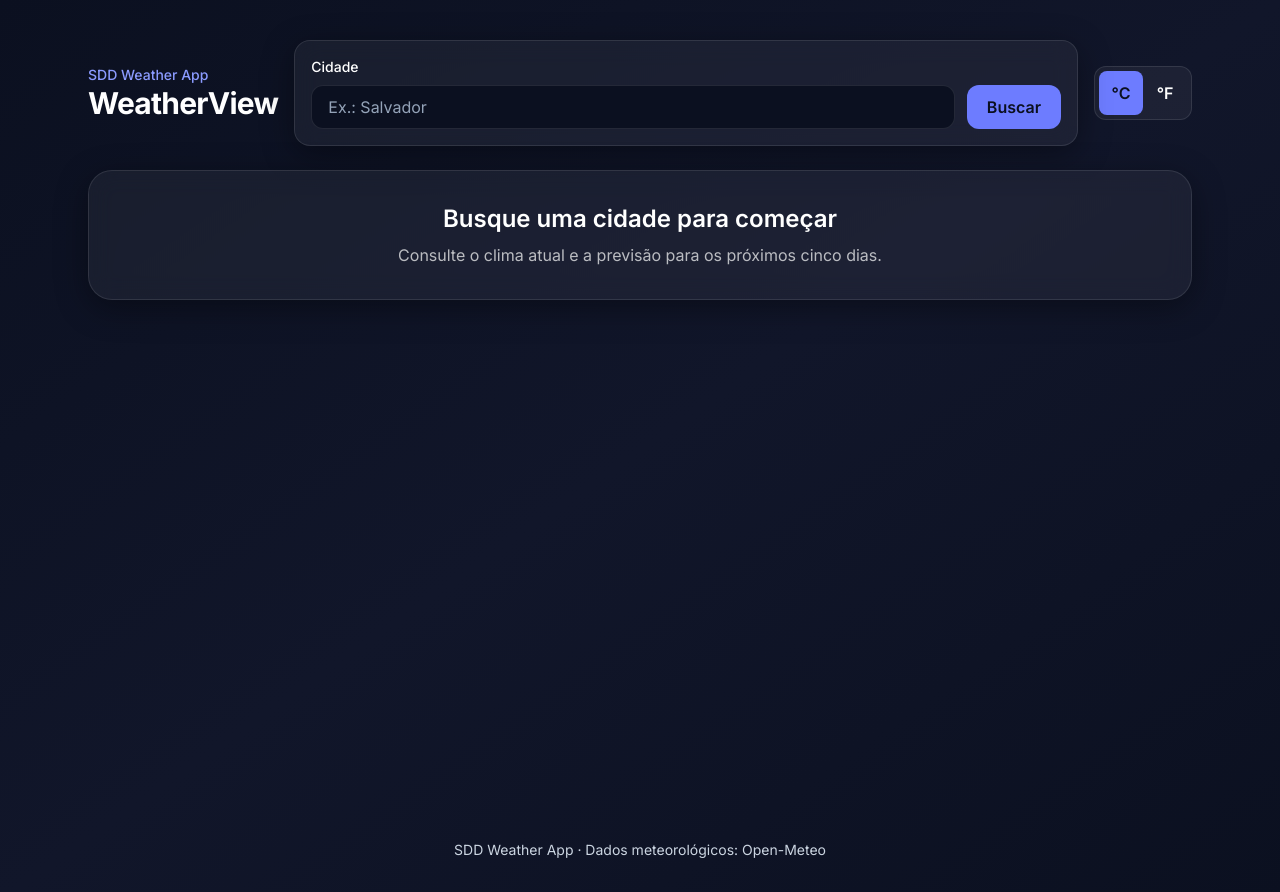
it: App › mostra loading nas duas consultas, desabilita busca e remove dados anteriores
The width and height of the screenshot is (1280, 892).
Type "Salvador" into the search field labelled "Cidade" at (633,107), box [311,85,955,129]
Then press Enter
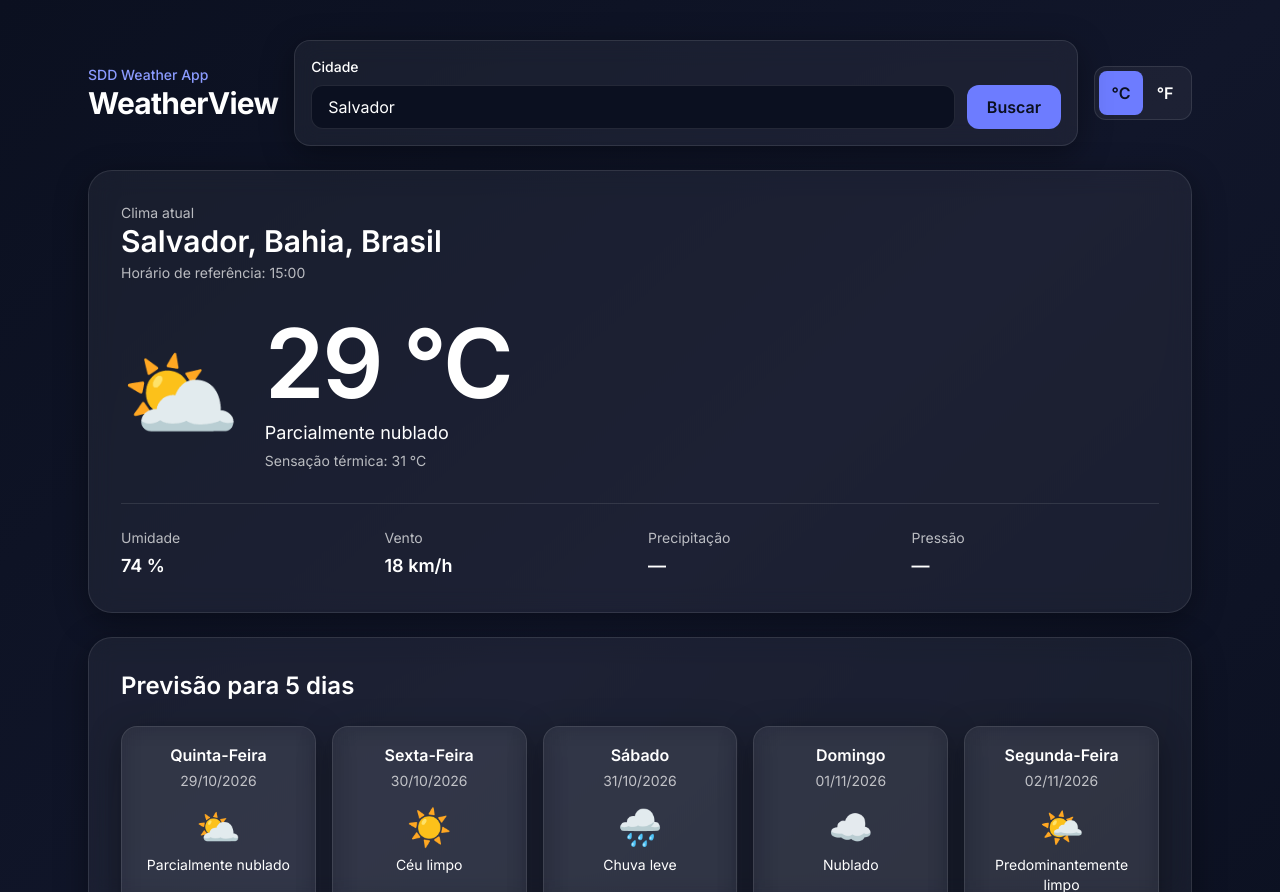
Now the element "Salvador, Bahia, Brasil" is shown, box [88,170,1192,613]
Click the button "Buscar" at (1014,107), box [967,85,1061,129]
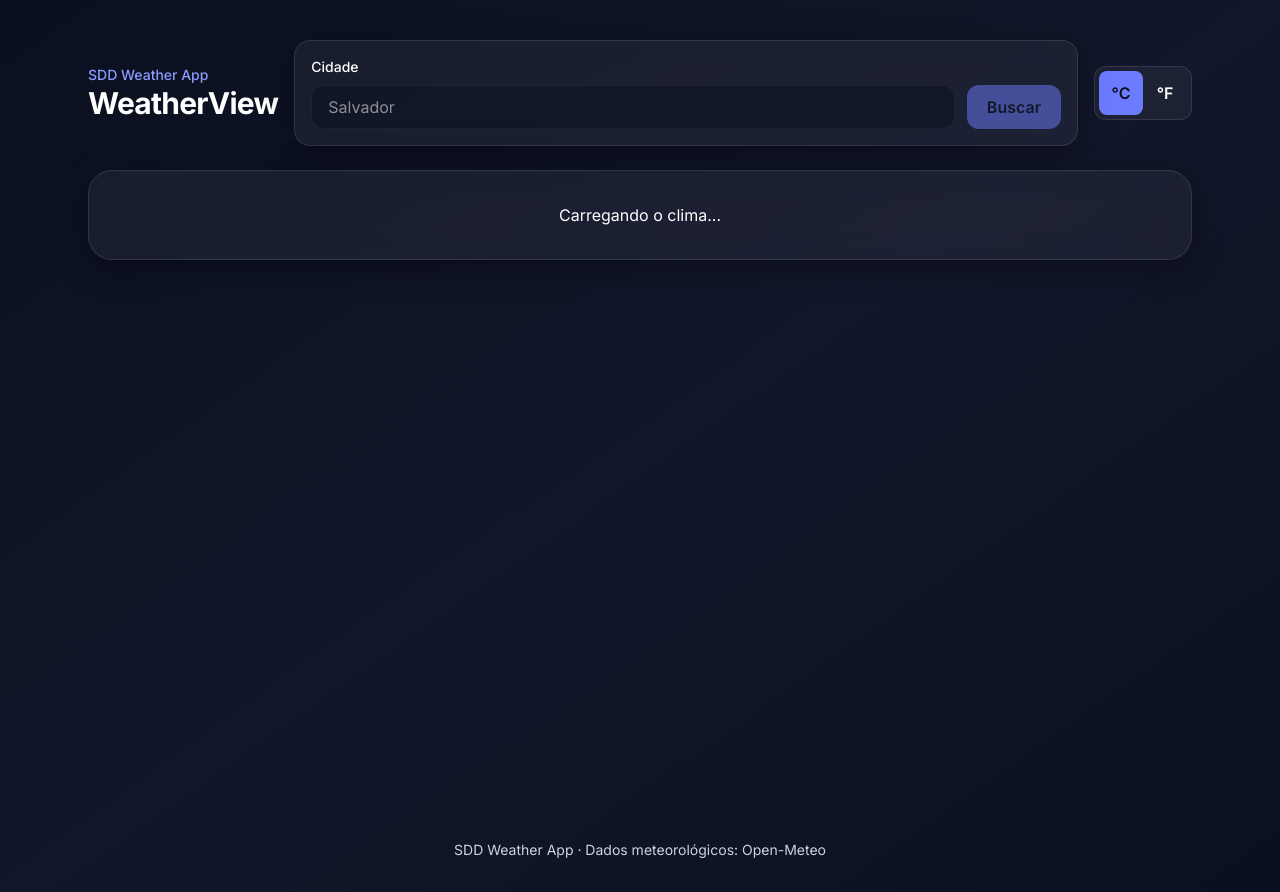
Now the message reads "Carregando o clima...", box [559,205,721,225]
Now the button "Buscar" is disabled, box [967,85,1061,129]
Now the search field labelled "Cidade" is disabled, box [311,85,955,129]
Click the button "°F" at (1165,93), box [1143,71,1187,115]
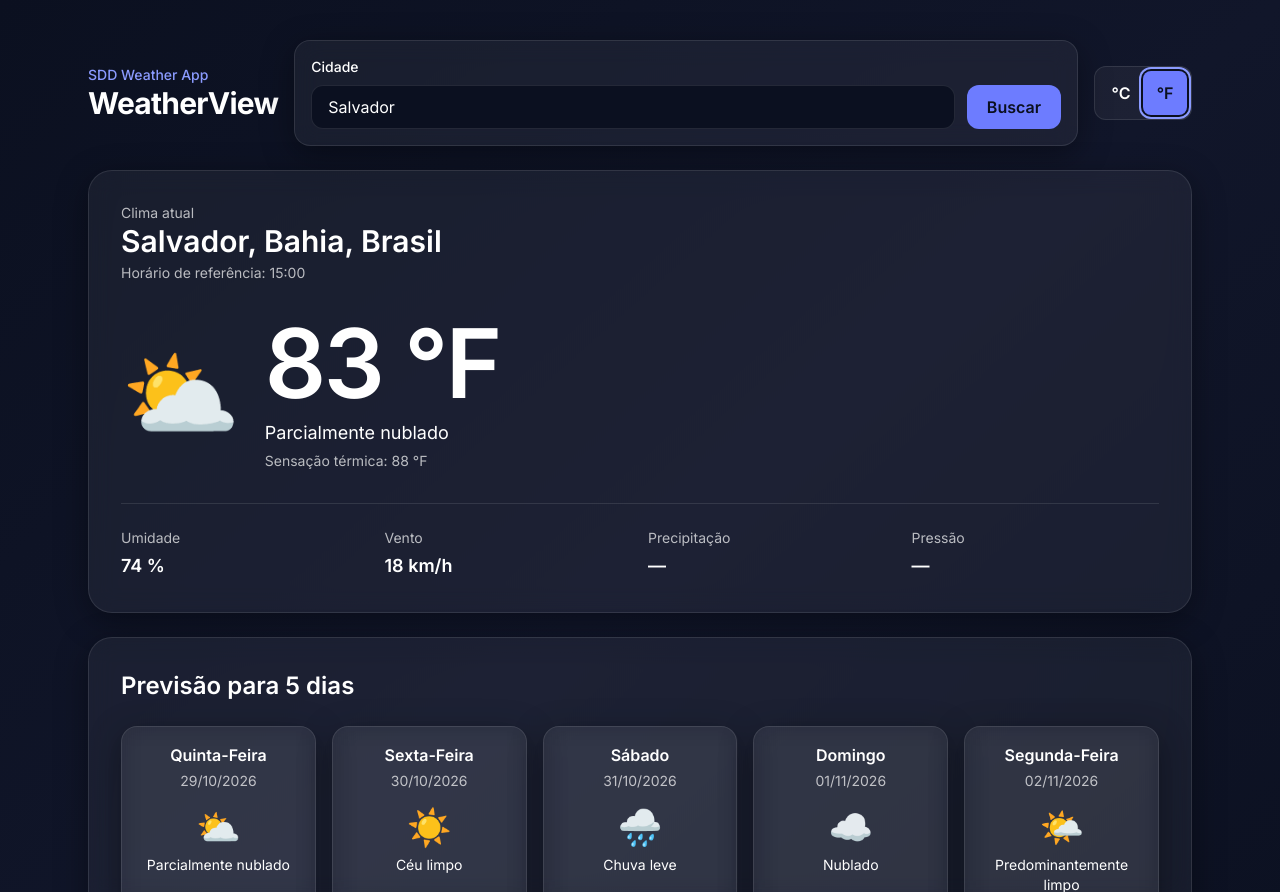
Now the search field labelled "Cidade" is enabled, box [311,85,955,129]
Now the message "Carregando o clima..." is gone
Now the text "83 °F" is shown, box [265,315,500,411]
